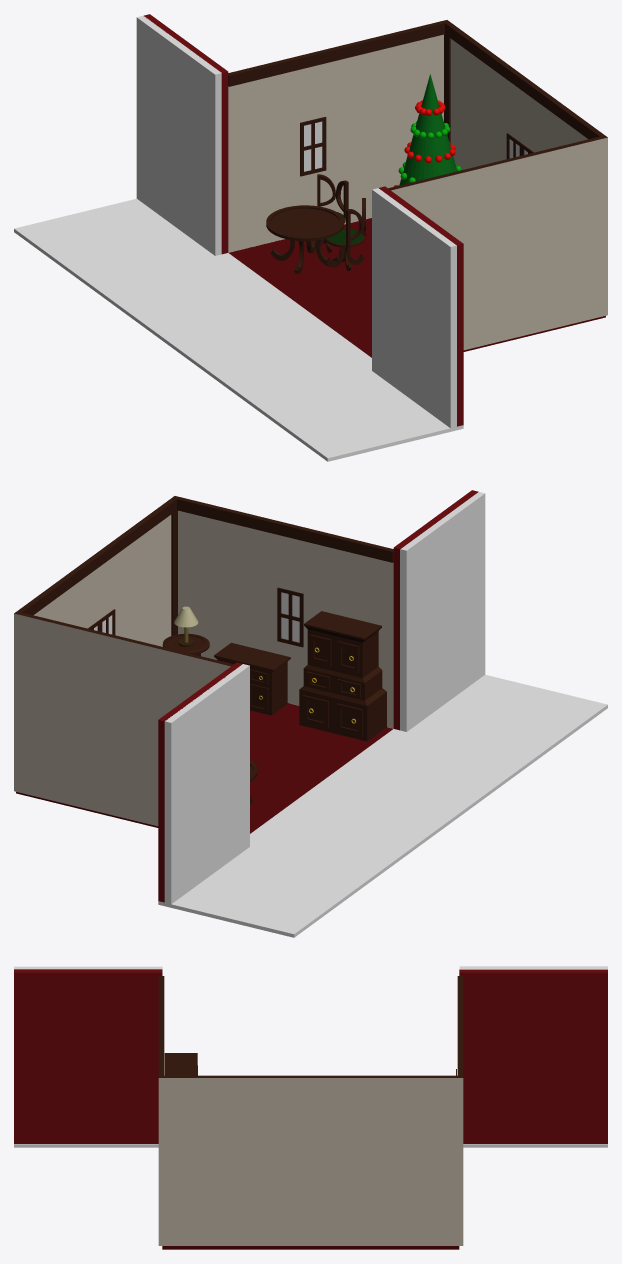
Rendered from Room.fbx.
3 views of the same model, one above another, from view 1: azimuth 30°, elevation 25°; view 2: azimuth 150°, elevation 25°; view 3: azimuth 270°, elevation 25° (orthographic). The views are drawn at different scales.
Parts seen in each view (by area): view 1: Plane.004, Wall One, Wall Tow, Plane.003, Plane.002, Wall One.002, Ground Floor, Sphere.003, Cube.001, Plane, Plane.001, Window 1 (+2 smaller); view 2: Plane.004, Wall One, Wall Tow, Plane.003, Plane.002, Wall One.002, Cube, Ground Floor, Torus.002, Plane.001, Plane, Window 1.003 (+1 smaller); view 3: Wall One.002, Plane, Plane.001, Wall Tow, Wall One, Ground Floor, Plane.004, Cube, Plane.002, Plane.003.
Part boxes in pixels (bbox=[...]): Plane.004: bbox=[14, 198, 463, 461]; Wall One: bbox=[228, 20, 449, 252]; Wall Tow: bbox=[388, 135, 607, 350]; Plane.003: bbox=[136, 15, 221, 255]; Plane.002: bbox=[372, 188, 456, 428]; Wall One.002: bbox=[444, 22, 604, 170]; Ground Floor: bbox=[229, 218, 605, 357]; Sphere.003: bbox=[394, 74, 461, 186]; Cube.001: bbox=[266, 205, 344, 273]; Plane: bbox=[144, 14, 228, 254]; Plane.001: bbox=[379, 186, 463, 426]; Window 1: bbox=[300, 117, 326, 176]; Plane.004: bbox=[158, 674, 607, 937]; Wall One: bbox=[14, 611, 233, 826]; Wall Tow: bbox=[172, 496, 393, 728]; Plane.003: bbox=[164, 664, 249, 904]; Plane.002: bbox=[400, 492, 485, 731]; Wall One.002: bbox=[16, 498, 177, 646]; Cube: bbox=[299, 611, 386, 741]; Ground Floor: bbox=[16, 703, 392, 833]; Torus.002: bbox=[214, 642, 290, 715]; Plane.001: bbox=[393, 490, 478, 730]; Plane: bbox=[158, 662, 242, 902]; Window 1.003: bbox=[277, 587, 303, 647]; Wall One.002: bbox=[162, 1075, 459, 1245]; Plane: bbox=[459, 969, 607, 1143]; Plane.001: bbox=[14, 969, 162, 1143]; Wall Tow: bbox=[158, 976, 164, 1245]; Wall One: bbox=[457, 976, 463, 1245]; Ground Floor: bbox=[162, 1246, 459, 1249]; Plane.004: bbox=[14, 1144, 607, 1147]; Cube: bbox=[164, 1053, 197, 1075]; Plane.002: bbox=[14, 966, 162, 975]; Plane.003: bbox=[459, 966, 607, 969].
Size of the model in its own units: 10500 by 5201 by 16000.
